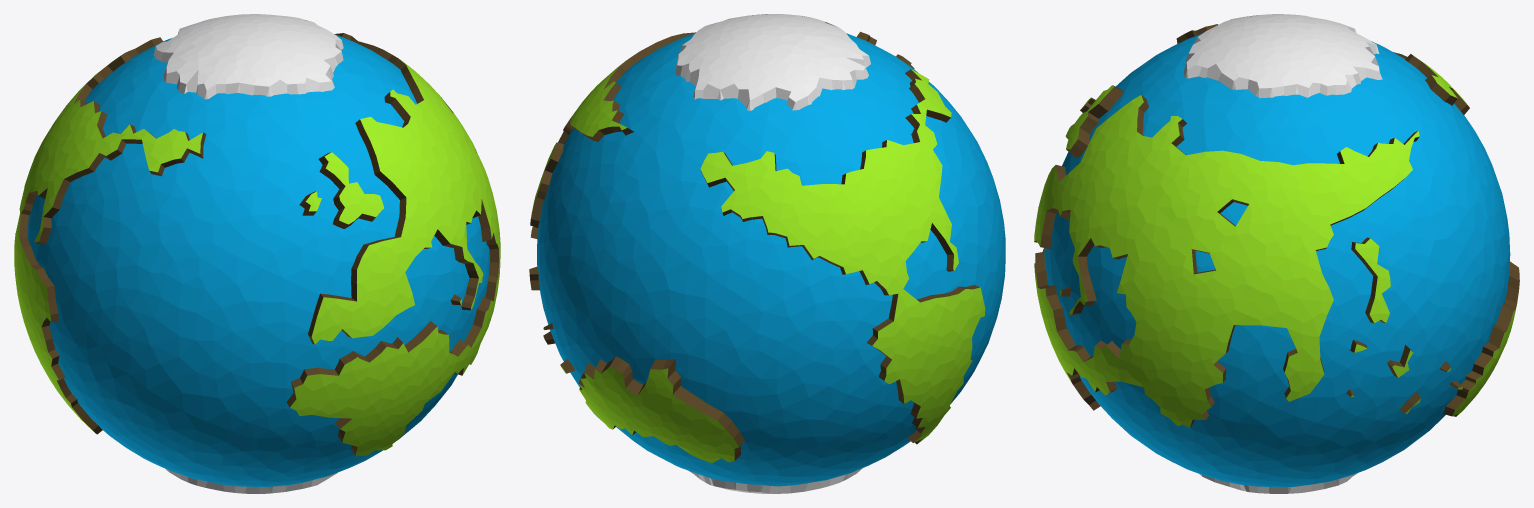
Rendered from earth.glb.
The picture shows the model from 3 angles, left to right: view 1: azimuth 30°, elevation 25°; view 2: azimuth 150°, elevation 25°; view 3: azimuth 270°, elevation 25°; orthographic projection.
Parts seen in each view (by area): view 1: water, earth; view 2: water, earth; view 3: water, earth.
Boxes of the visible parts, x1,y1,x2,y2 form: water: (27, 34, 489, 486); earth: (14, 14, 500, 493); water: (537, 33, 1005, 486); earth: (529, 14, 985, 493); water: (1044, 34, 1510, 486); earth: (1034, 14, 1519, 493).
Bounding box in the file's own units: 1 × 1 × 1.
